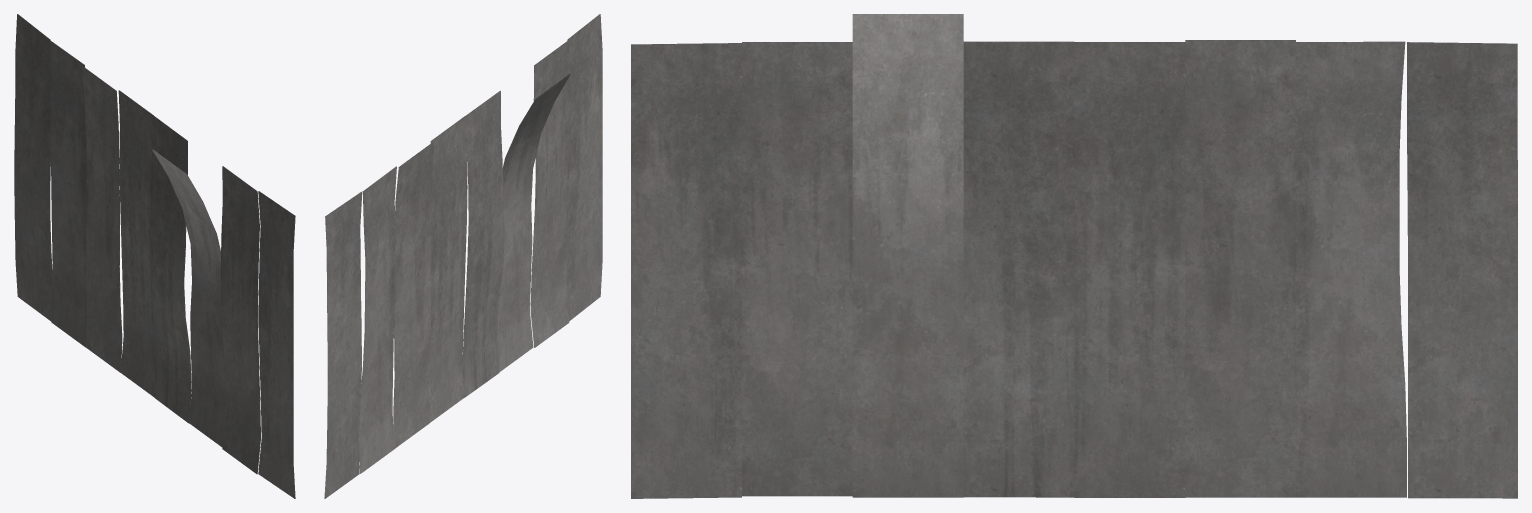
The model's file is Psychiatric_Ward_Infirmary_Wall_Paper_2.glb.
3 views of the same model, side by side, from view 1: azimuth 30°, elevation 25°; view 2: azimuth 150°, elevation 25°; view 3: azimuth 270°, elevation 25° (orthographic). The views are drawn at different scales.
Visible parts, largest first — view 1: Wall_Paper_2, Wall_Paper_8, Wall_Paper_7, Wall_Paper_1, Wall_Paper_6, Wall_Paper_4, Wall_Paper_5, Wall_Paper_3; view 2: Wall_Paper_6, Wall_Paper_4, Wall_Paper_1, Wall_Paper_5, Wall_Paper_8, Wall_Paper_2, Wall_Paper_7, Wall_Paper_3; view 3: Wall_Paper_3, Wall_Paper_4, Wall_Paper_5, Wall_Paper_6, Wall_Paper_1, Wall_Paper_2, Wall_Paper_8, Wall_Paper_7.
Part boxes in pixels (x1,y1,x2,y2): Wall_Paper_2: (220,166,260,474); Wall_Paper_8: (14,14,52,321); Wall_Paper_7: (49,40,87,347); Wall_Paper_1: (258,191,295,498); Wall_Paper_6: (81,65,122,372); Wall_Paper_4: (149,115,191,423); Wall_Paper_5: (118,90,155,397); Wall_Paper_3: (152,149,225,447); Wall_Paper_6: (393,142,433,448); Wall_Paper_4: (462,90,504,397); Wall_Paper_1: (566,14,602,320); Wall_Paper_5: (428,116,467,422); Wall_Paper_8: (324,191,362,498); Wall_Paper_2: (530,40,569,347); Wall_Paper_7: (358,166,396,473); Wall_Paper_3: (497,74,570,372); Wall_Paper_3: (852,14,963,497); Wall_Paper_4: (963,41,1074,497); Wall_Paper_5: (1074,42,1185,497); Wall_Paper_6: (1185,40,1296,497); Wall_Paper_1: (631,43,741,498); Wall_Paper_2: (742,42,852,496); Wall_Paper_8: (1407,42,1517,498); Wall_Paper_7: (1295,41,1406,497).
Size of the model in its own units: 0.3472 by 2.26 by 4.
Materials: 1 (1 with a texture image).
